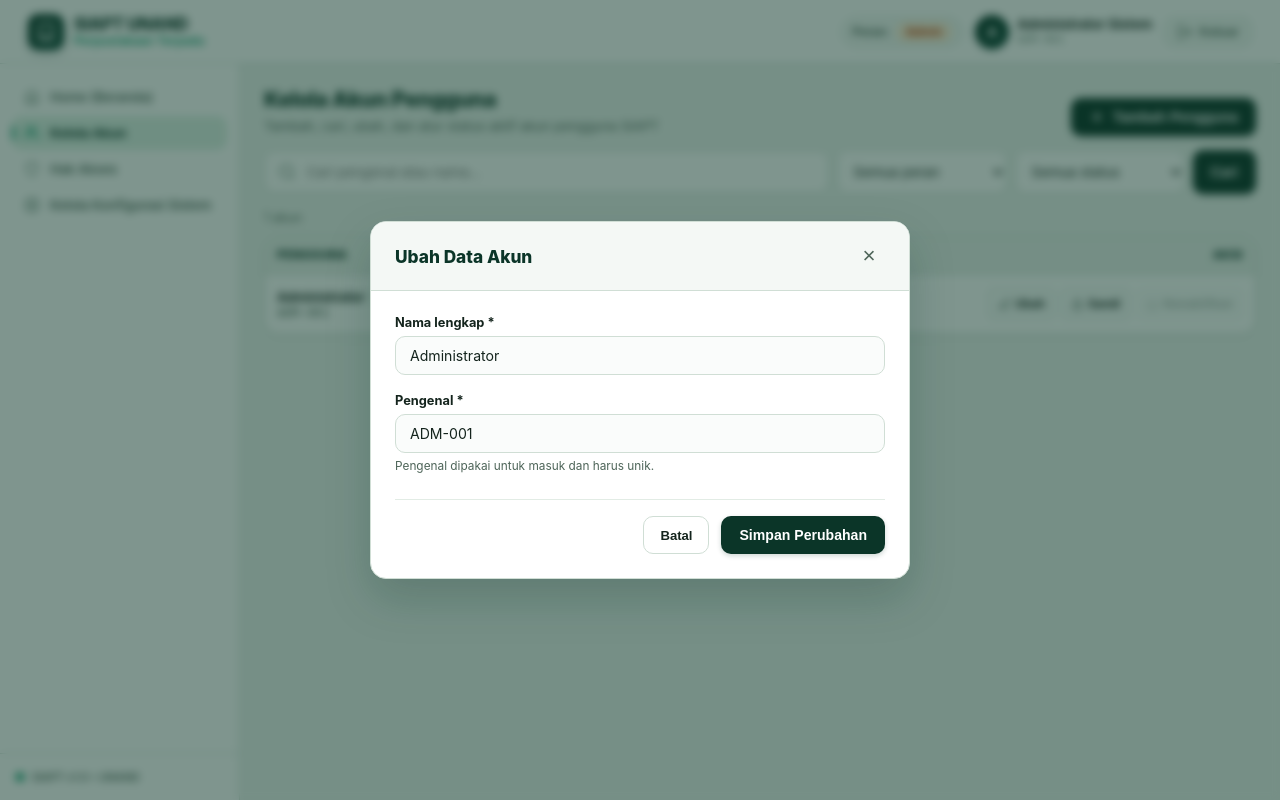
Test: App › identitas sesi saat Admin mengubah akunnya sendiri › pengaman simpan ganda berlaku sepanjang sesi, walau halaman Kelola Akun ditutup
This screenshot has width=1280, height=800.
Earlier steps of the test are not shown.
Later steps or results of the test are not shown.
Replace the text in the field labelled "Pengenal *" with "ADM-BARU" at (640,434), box [395,414,885,453]
Click the button "Simpan Perubahan" at (803,535), box [722,516,885,554]
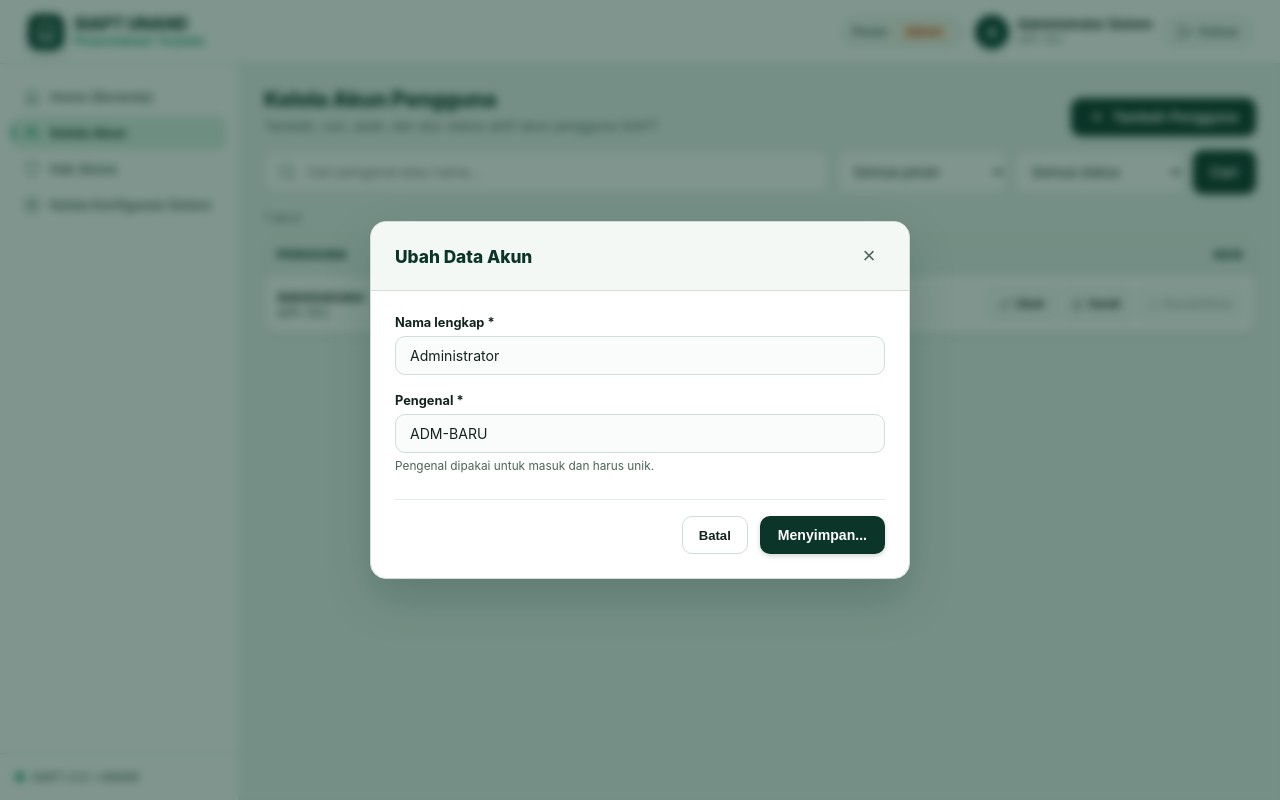
Click the button named "Tutup Modal" at (869,256), box [853,240,885,272]
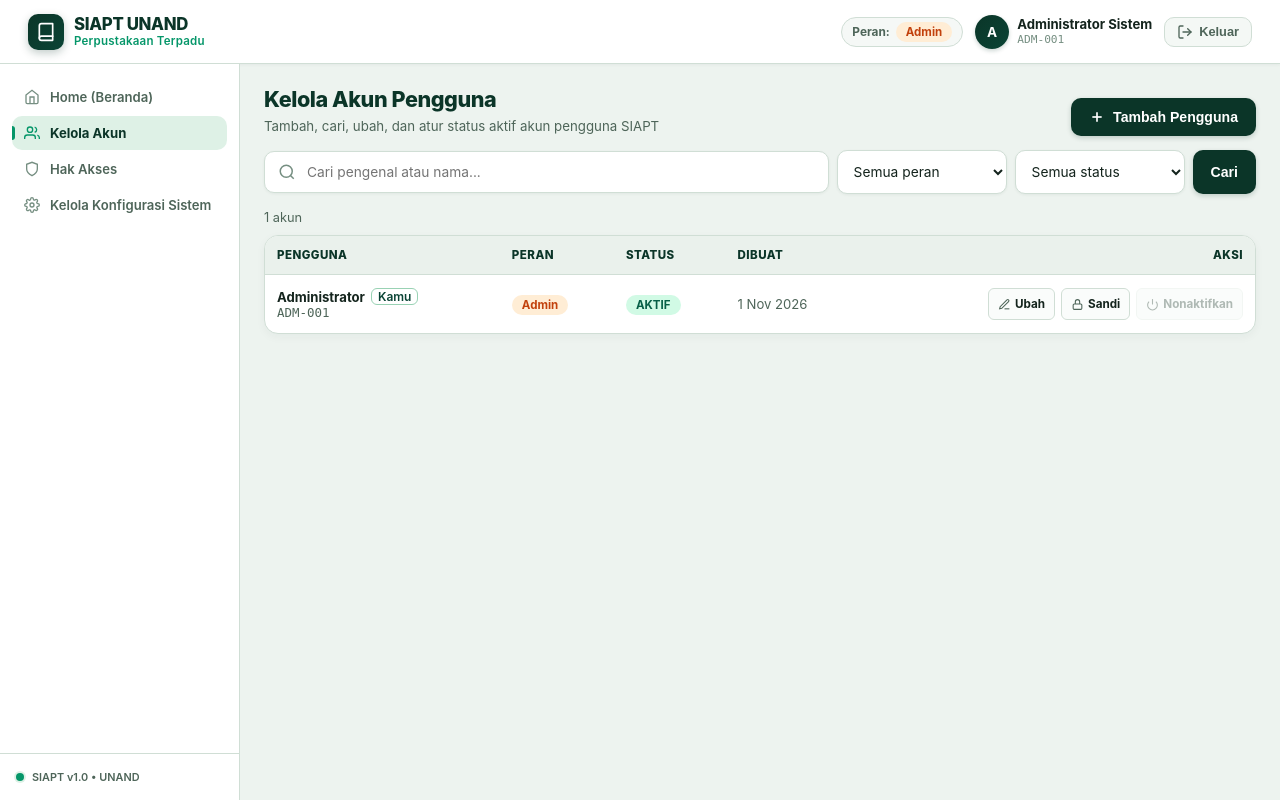
Click the button "Kelola Konfigurasi Sistem" at (120,205), box [12,188,227,222]
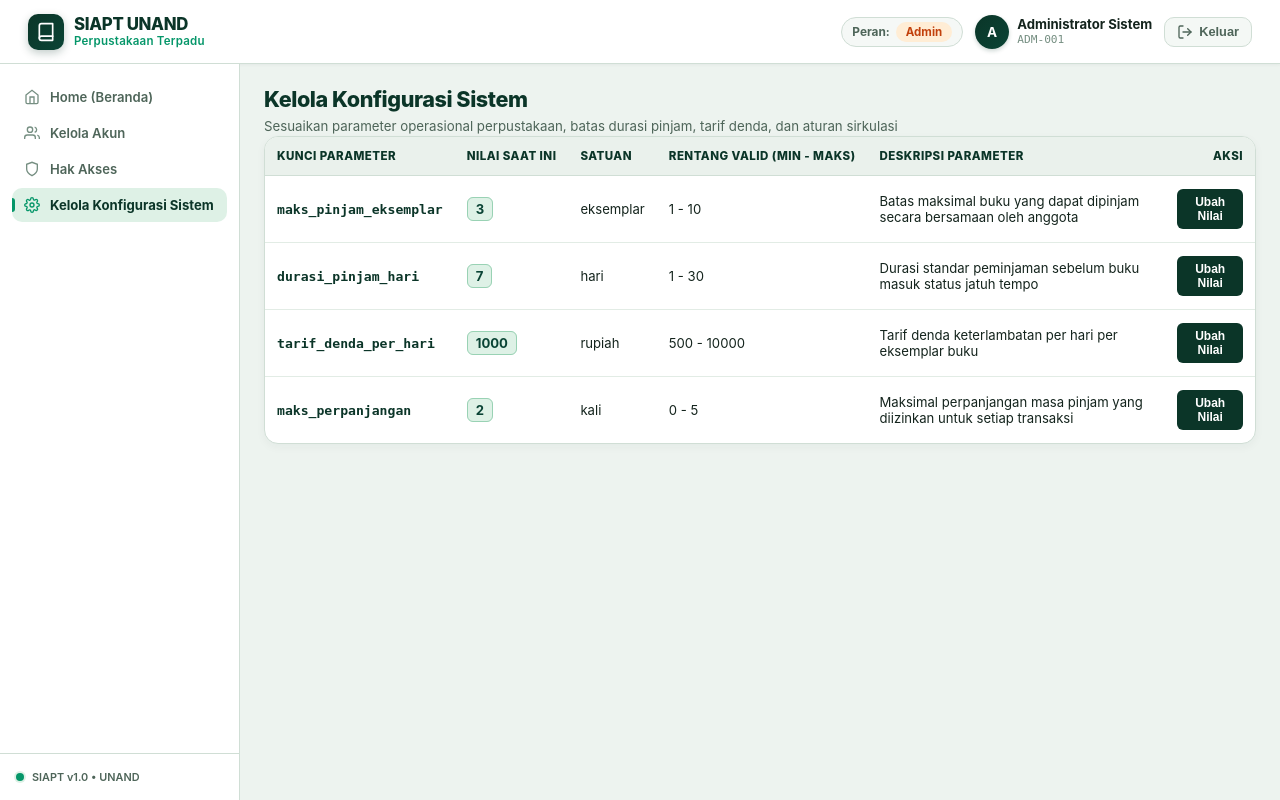
Click the button "Kelola Akun" at (120,133), box [12,116,227,150]
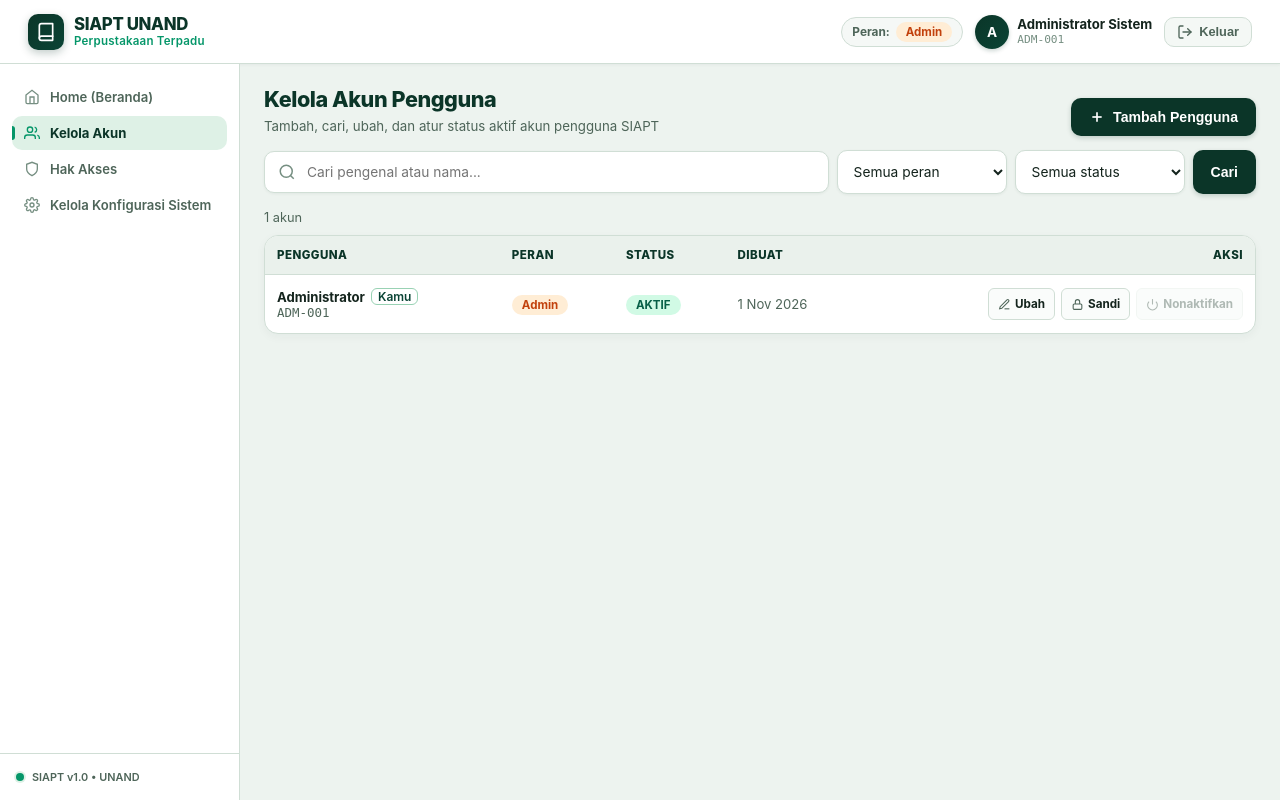
Click the button with aria-label "Ubah ADM-001" at (1022,304), box [988,288,1055,320]
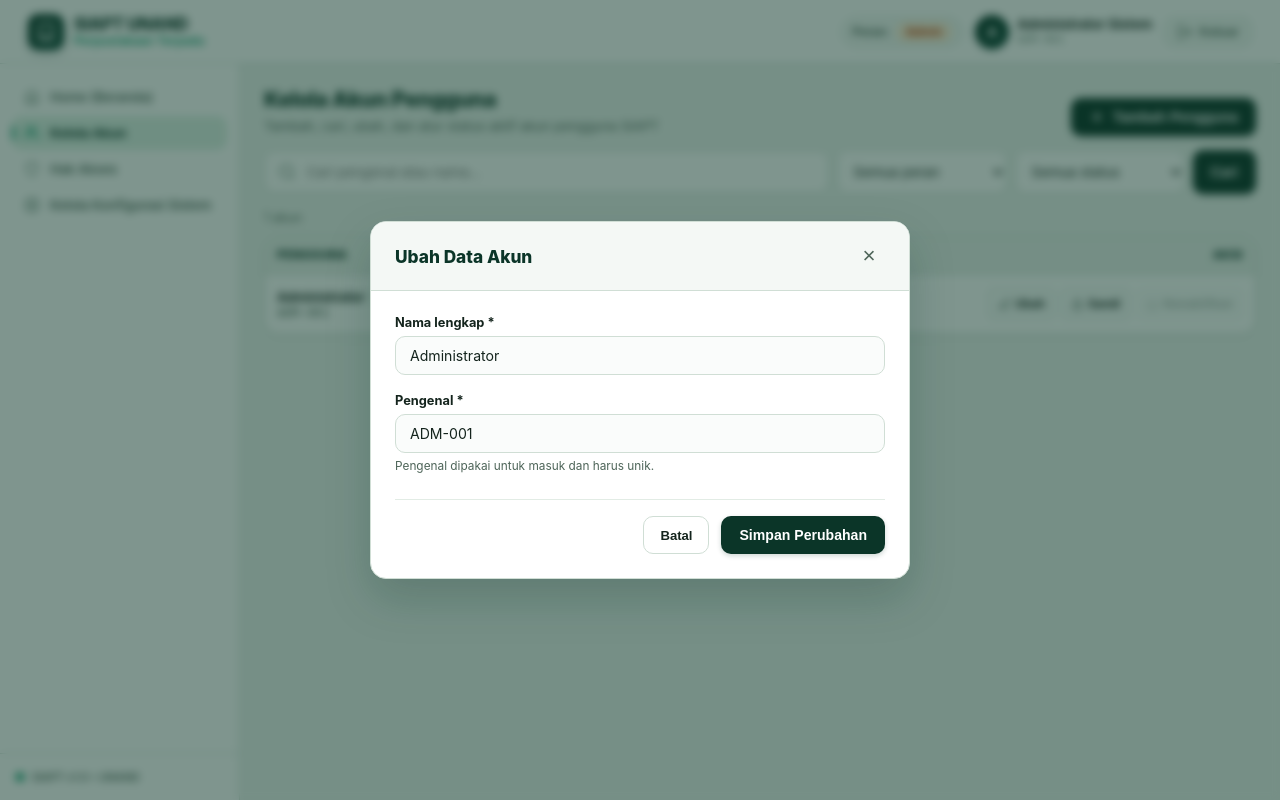
Replace the text in the field labelled "Pengenal *" with "ADM-KEDUA" at (640,434), box [395,414,885,453]
Click the button "Simpan Perubahan" at (803,535), box [722,516,885,554]
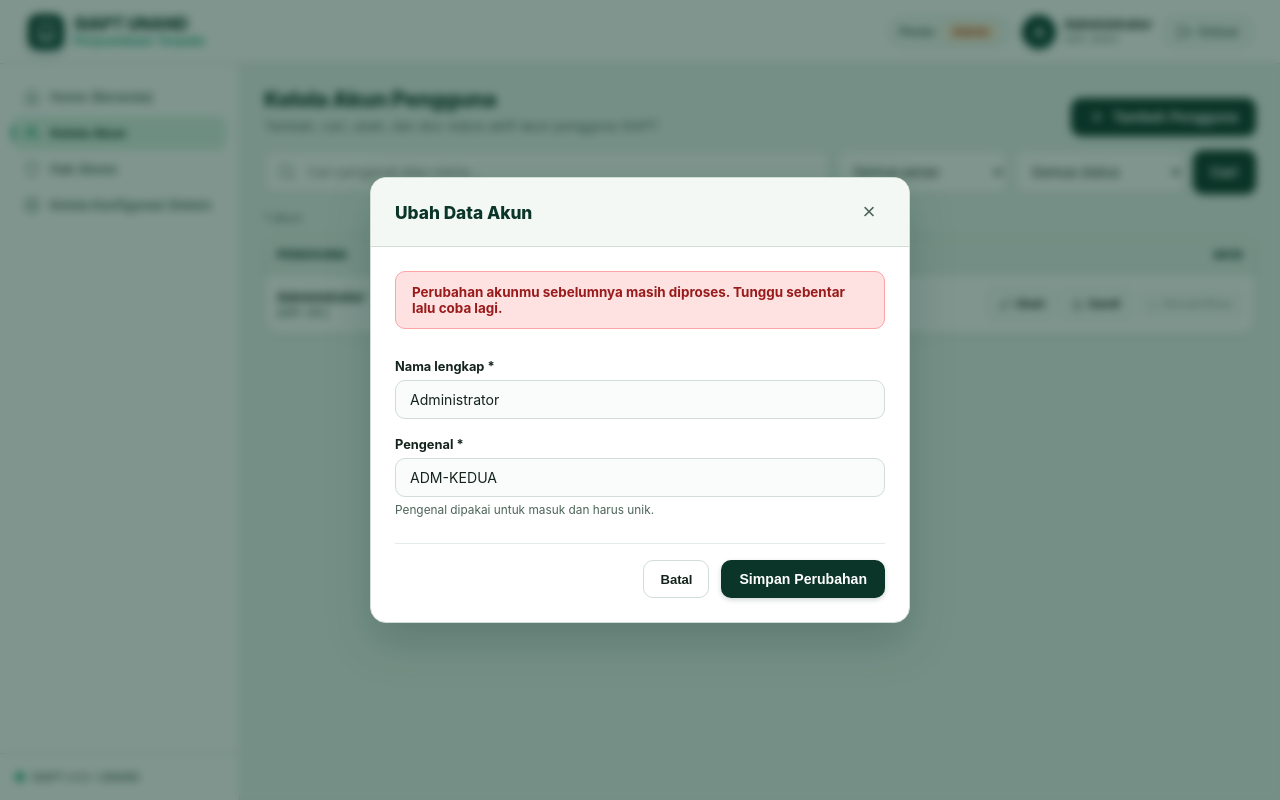
Result: the text "Perubahan akunmu sebelumnya masih diproses. Tunggu sebentar lalu coba lagi." is shown at [395,271,885,329]
